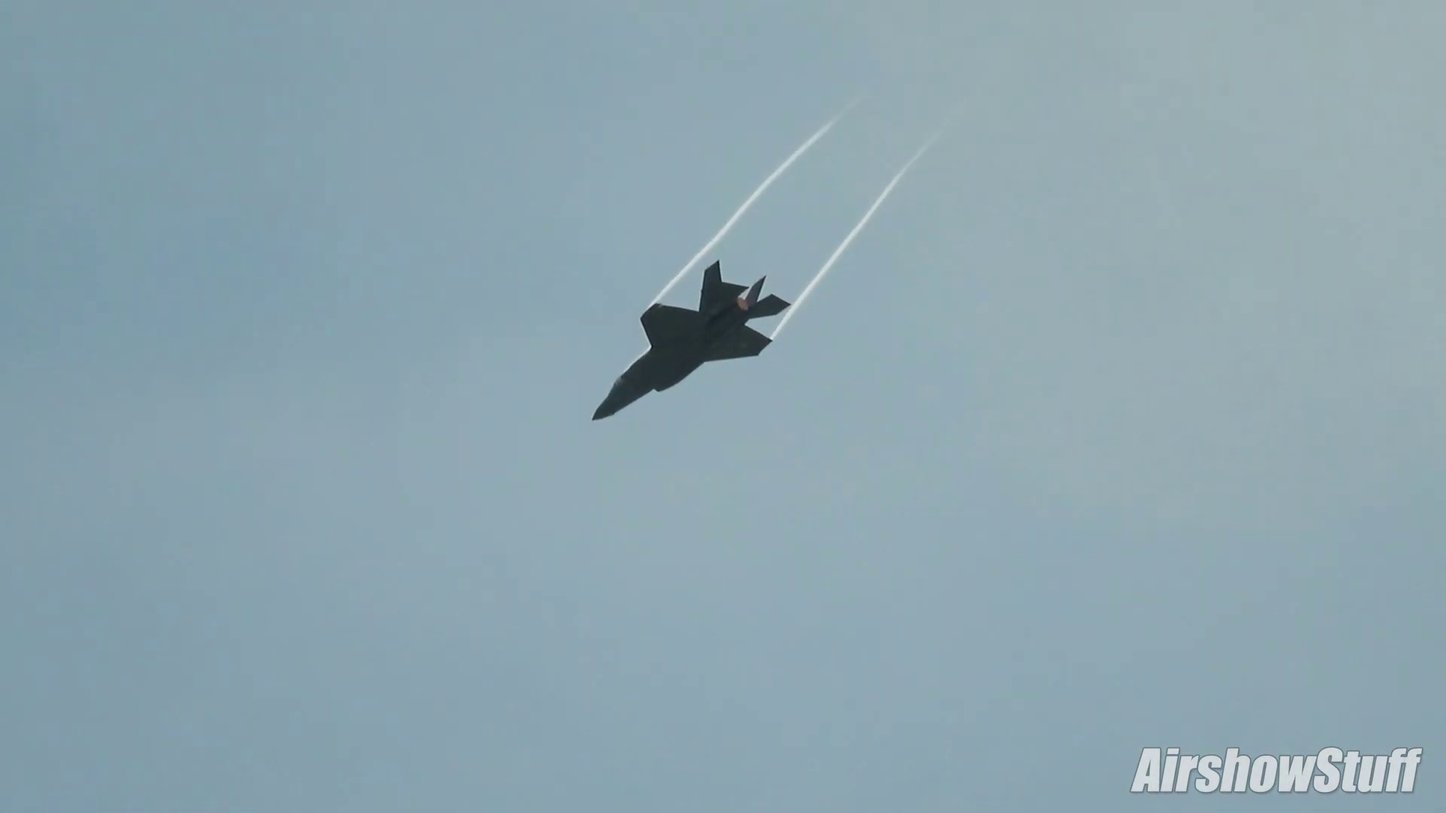F35: (583, 256, 797, 435)
